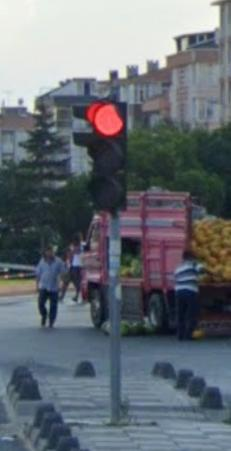redlight: (80, 96, 128, 220)
